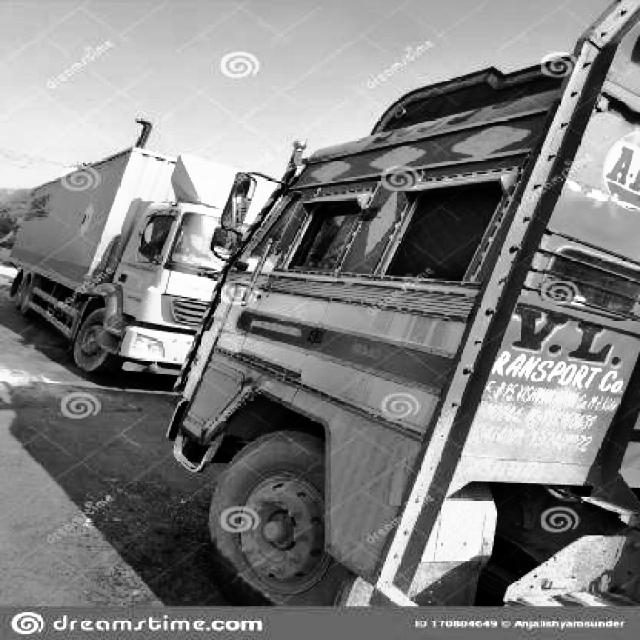HCV: (214, 69, 639, 596), (8, 113, 268, 380)
